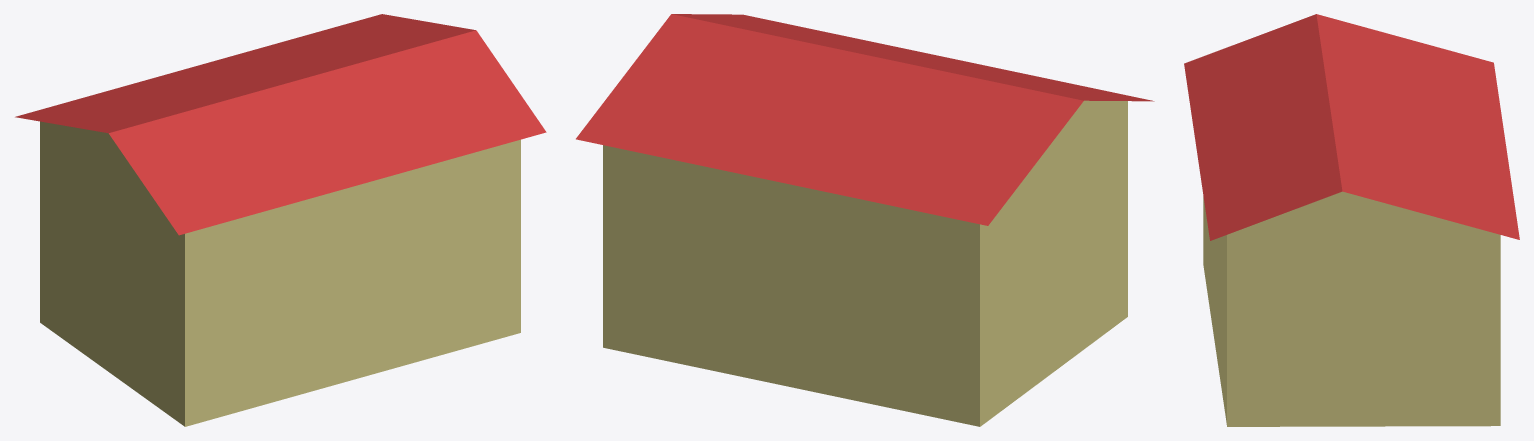
3 renders of one model, left to right at view 1: azimuth 30°, elevation 25°; view 2: azimuth 150°, elevation 25°; view 3: azimuth 270°, elevation 25°, orthographic. The views are drawn at different scales.
Size of the model in its own units: 11.63 by 9.25 by 7.37.
